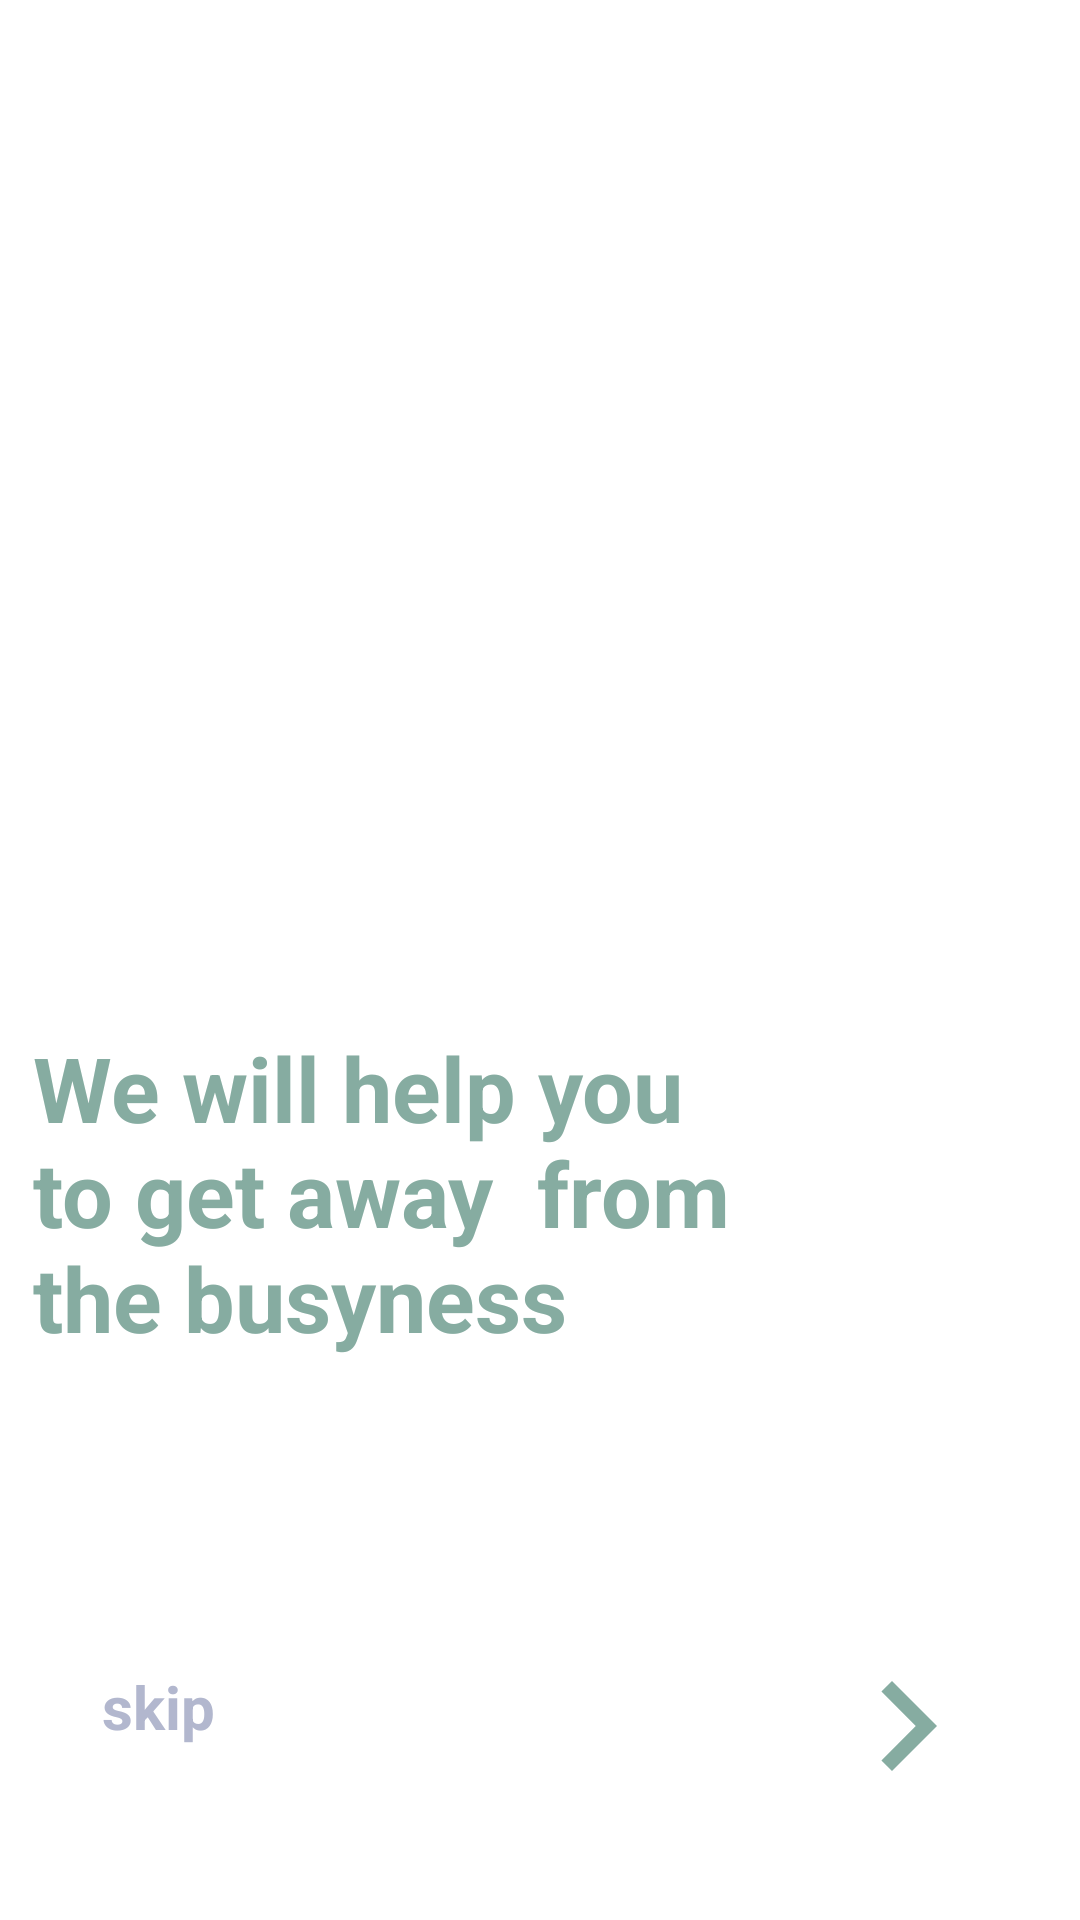

Icon click points for this 1080px×1920px phone screenshot, format (x=x, y=y):
navigate next: (x=909, y=1726)
